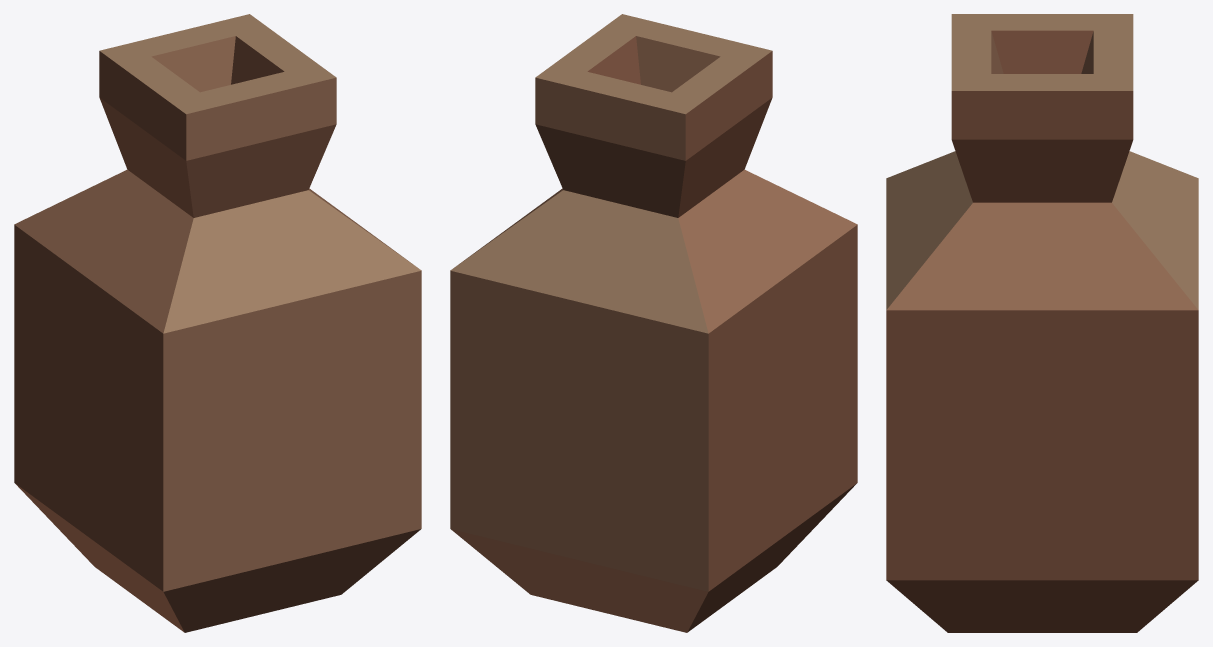
Rendered from SD_Prop_Vase_01.fbx.
3 views of the same model, side by side, from view 1: azimuth 30°, elevation 25°; view 2: azimuth 150°, elevation 25°; view 3: azimuth 270°, elevation 25° (orthographic). The views are drawn at different scales.
Parts seen in each view (by area): view 1: SD_Prop_Vase_01; view 2: SD_Prop_Vase_01; view 3: SD_Prop_Vase_01.
Part boxes in pixels (left/top/right/bottom): SD_Prop_Vase_01: left=14, top=14, right=421, bottom=632; SD_Prop_Vase_01: left=450, top=14, right=857, bottom=632; SD_Prop_Vase_01: left=886, top=14, right=1198, bottom=632.
Size of the model in its own units: 0.4713 by 0.9003 by 0.4713.
